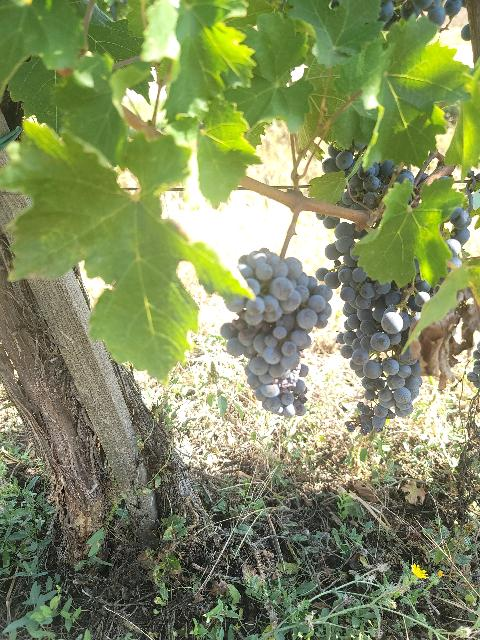grapes: (221, 248, 332, 419), (316, 222, 431, 359), (358, 349, 422, 435)
